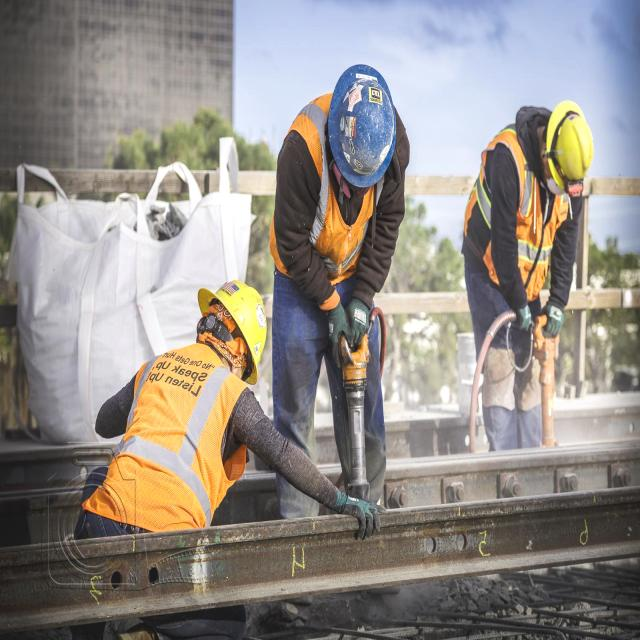hand_glove: (330, 476, 378, 544), (344, 295, 371, 357), (324, 302, 349, 367), (541, 296, 571, 343), (508, 298, 538, 338)
head_helmet: (328, 62, 395, 189), (198, 277, 268, 378), (543, 100, 595, 198)
person: (268, 40, 406, 500), (78, 278, 274, 542), (461, 100, 595, 457)
vest: (85, 342, 244, 524), (267, 92, 378, 278), (464, 128, 561, 295)
